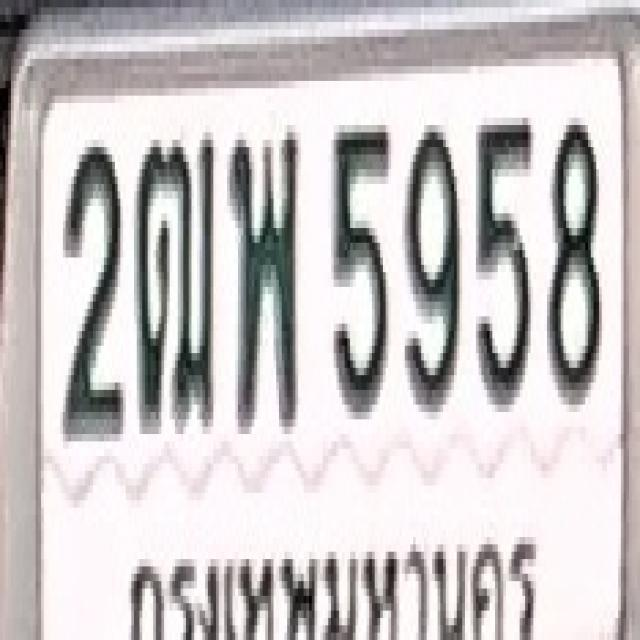2: (62, 140, 122, 434)
5: (331, 118, 388, 419), (474, 114, 532, 408)
8: (546, 118, 600, 404)
9: (402, 118, 460, 412)
A18: (134, 129, 213, 430)
A30: (227, 125, 298, 427)
BKK: (121, 520, 542, 640)
